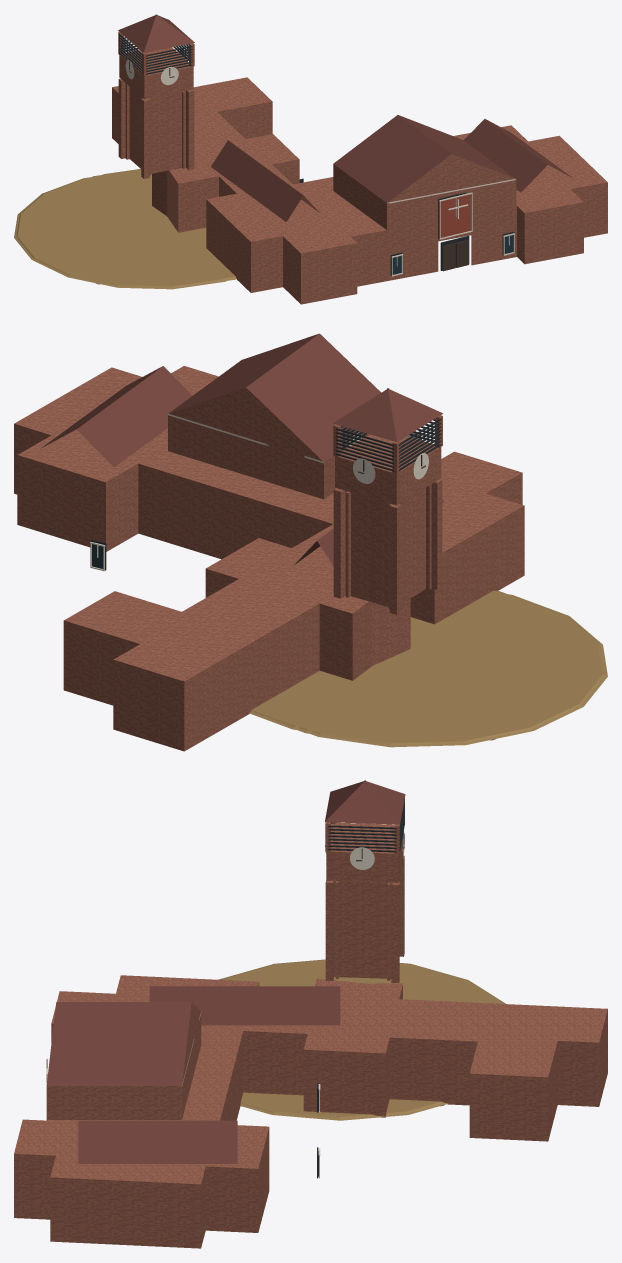
Rendered from paris-yates.glb.
3 renders of one model, top to bottom at view 1: azimuth 30°, elevation 25°; view 2: azimuth 150°, elevation 25°; view 3: azimuth 270°, elevation 25°, orthographic. The views are drawn at different scales.
Visible parts, largest first — view 1: East low wing, Clock chamber at about 76 percent of measured tower height, Tall open brick carillon shaft below clock, Raised gabled nave and south entrance, Louvered upper lantern and low pyramidal cap; view 2: East low wing, Clock chamber at about 76 percent of measured tower height, Tall open brick carillon shaft below clock, Louvered upper lantern and low pyramidal cap; view 3: East low wing, Clock chamber at about 76 percent of measured tower height, Tall open brick carillon shaft below clock, Louvered upper lantern and low pyramidal cap.
Part boxes in pixels (x1=…): East low wing: x1=112, y1=15, x2=607, y2=253; Clock chamber at about 76 percent of measured tower height: x1=96, y1=14, x2=607, y2=304; Tall open brick carillon shaft below clock: x1=14, y1=169, x2=236, y2=289; Raised gabled nave and south entrance: x1=392, y1=194, x2=513, y2=274; Louvered upper lantern and low pyramidal cap: x1=119, y1=34, x2=514, y2=275; East low wing: x1=14, y1=333, x2=523, y2=681; Clock chamber at about 76 percent of measured tower height: x1=14, y1=388, x2=524, y2=751; Tall open brick carillon shaft below clock: x1=249, y1=590, x2=607, y2=747; Louvered upper lantern and low pyramidal cap: x1=91, y1=419, x2=441, y2=570; East low wing: x1=14, y1=781, x2=607, y2=1184; Clock chamber at about 76 percent of measured tower height: x1=14, y1=780, x2=607, y2=1248; Tall open brick carillon shaft below clock: x1=219, y1=959, x2=505, y2=1120; Louvered upper lantern and low pyramidal cap: x1=317, y1=800, x2=404, y2=1178.
Size of what is drawn, in the model's own units: 54.68 by 22.91 by 47.38.
10 materials, 2 textured.
